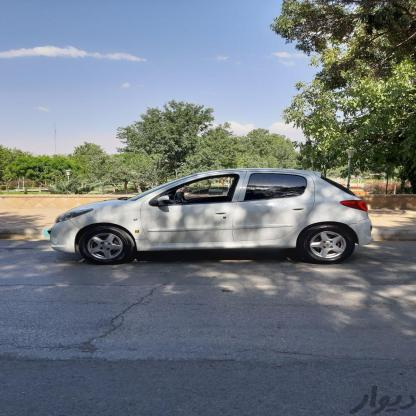Car: (41, 166, 385, 274)
